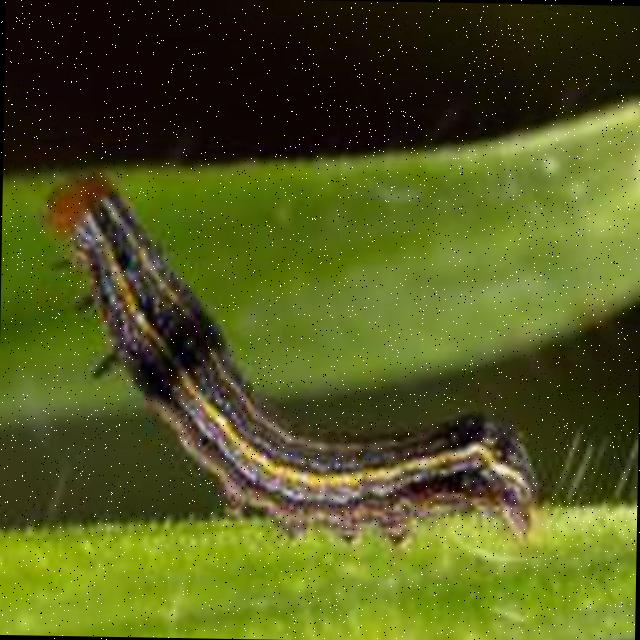worm: (37, 166, 546, 552)
